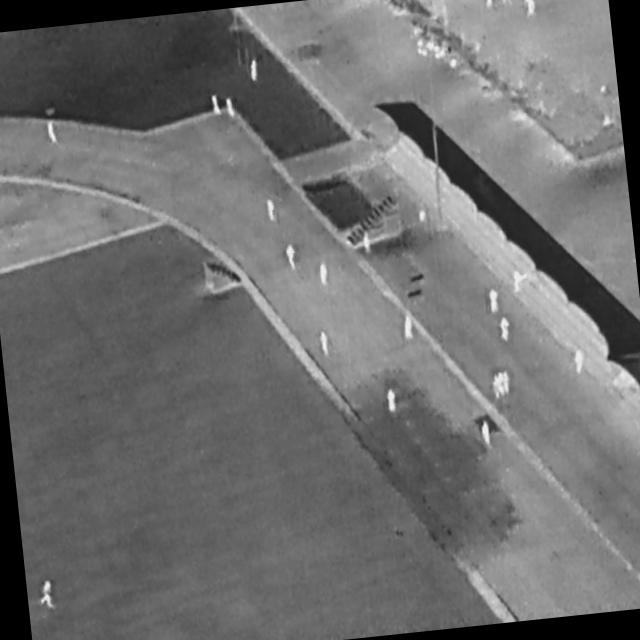person: (40, 581, 56, 611), (574, 348, 587, 376), (286, 243, 299, 270), (489, 289, 502, 315), (499, 318, 512, 343), (47, 120, 59, 146), (266, 198, 278, 224), (319, 332, 331, 358), (319, 262, 330, 288), (387, 389, 398, 414), (482, 422, 492, 447), (212, 94, 223, 116), (492, 374, 501, 399), (498, 373, 507, 398), (227, 98, 237, 119), (404, 316, 413, 339), (503, 372, 512, 395), (363, 232, 372, 255), (251, 60, 260, 82), (526, 1, 536, 18), (485, 1, 497, 10), (521, 1, 531, 6)
